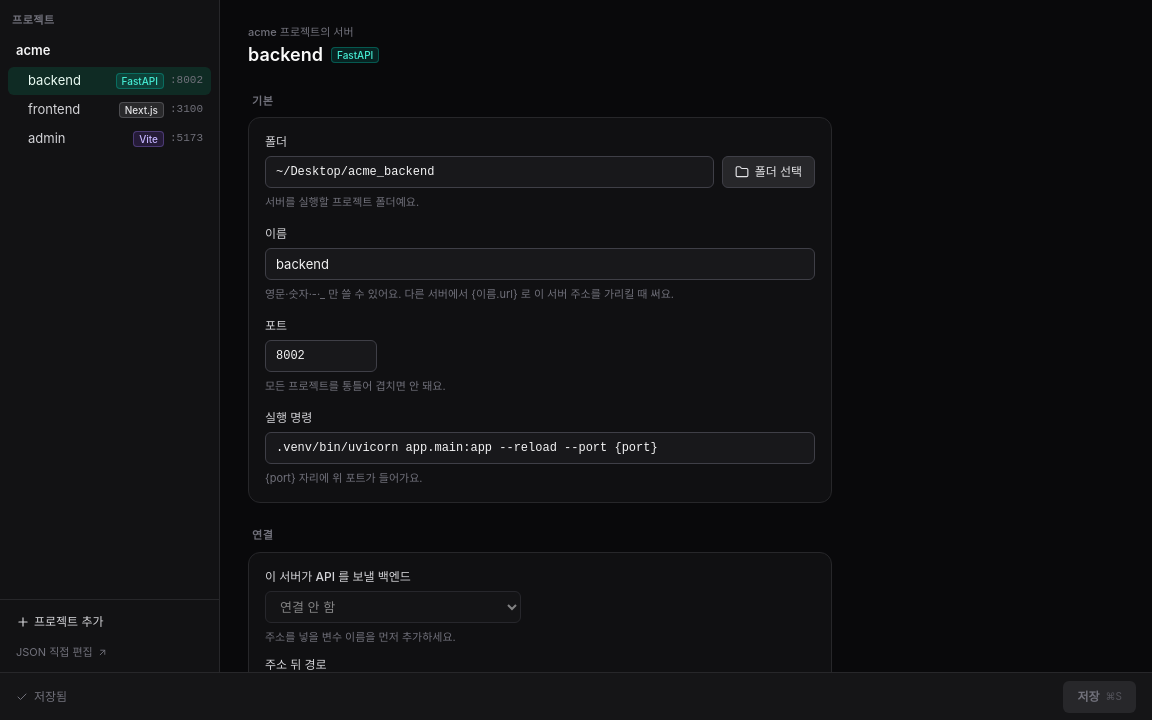
Scenario: SettingsApp — 저장 › 다음 저장에는 앞 저장이 돌려준 revision 을 보낸다
expect the heading "backend" is shown: met, box [248,40,323,68]
Replace the text in the field labelled "포트" with "8010" at (321, 356), box [265,340,377,372]
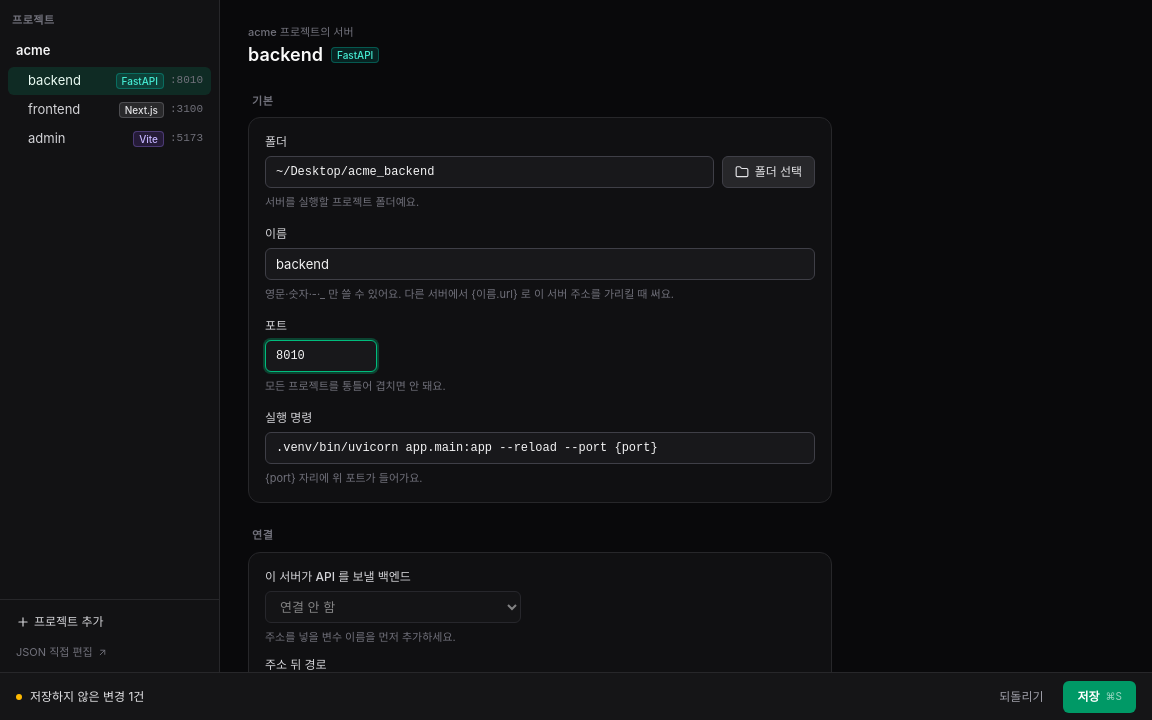
Click the button "저장 ⌘S" at (1100, 696), box [1064,680,1136,712]
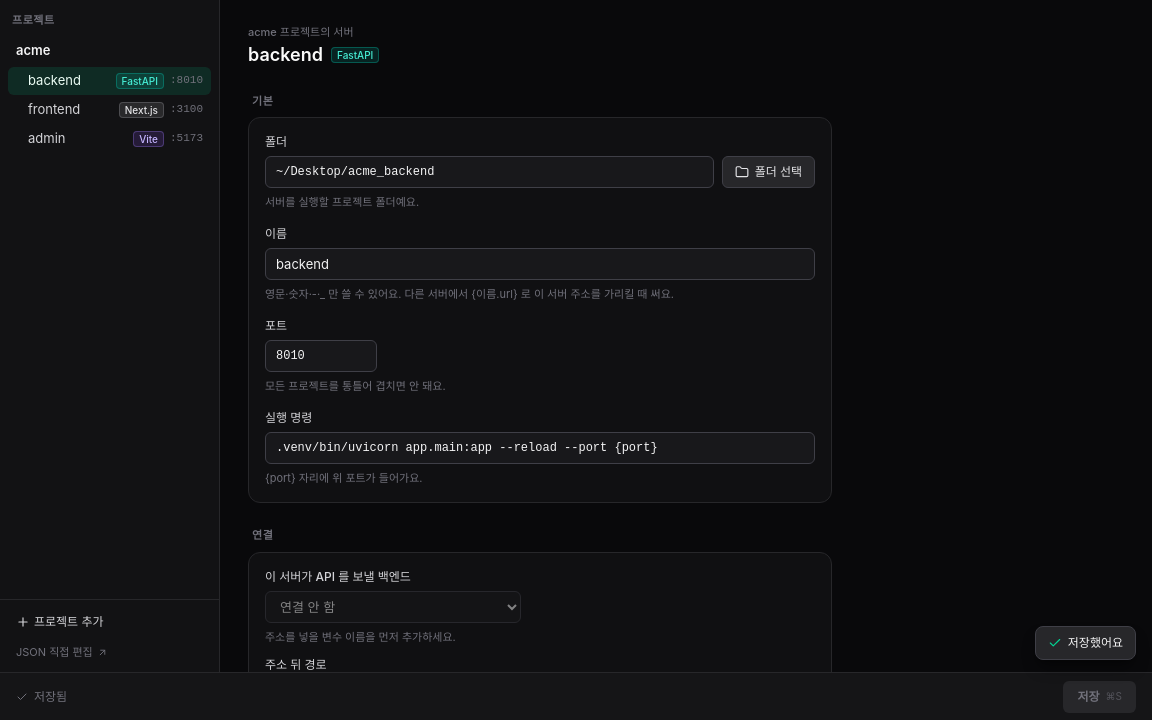
expect the text "저장했어요" is shown: met, box [1035,626,1136,660]
Replace the text in the field labelled "포트" with "8011" at (321, 356), box [265,340,377,372]
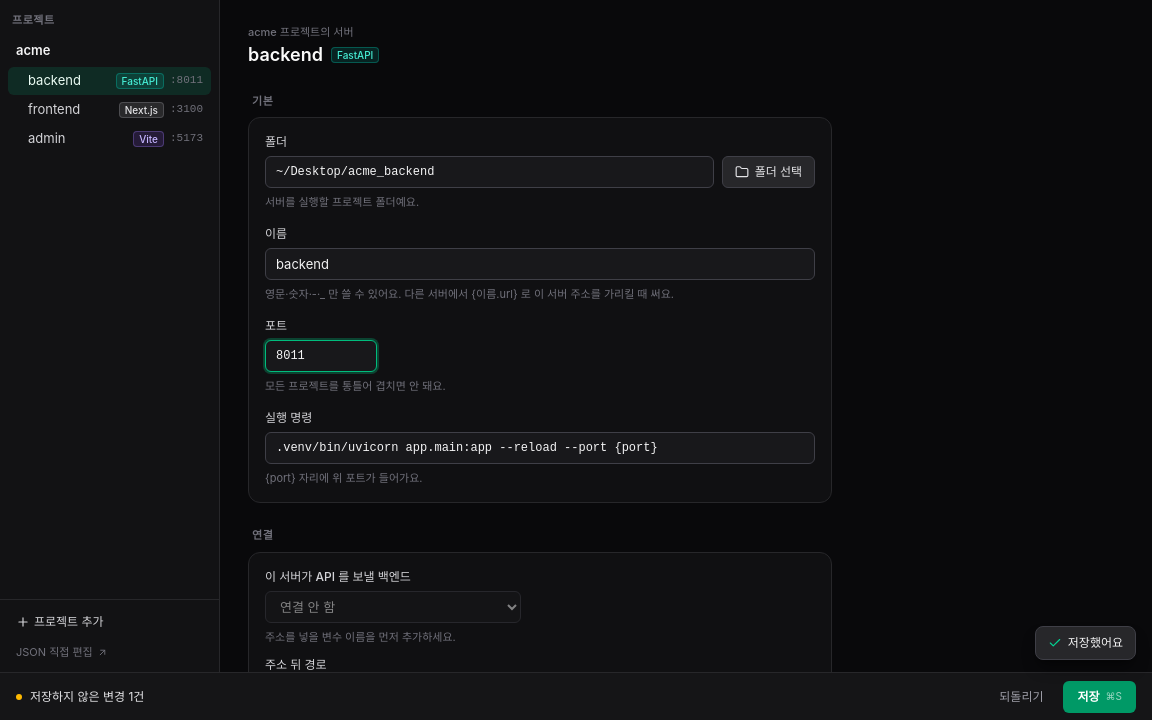
Click the button "저장 ⌘S" at (1100, 696), box [1064,680,1136,712]
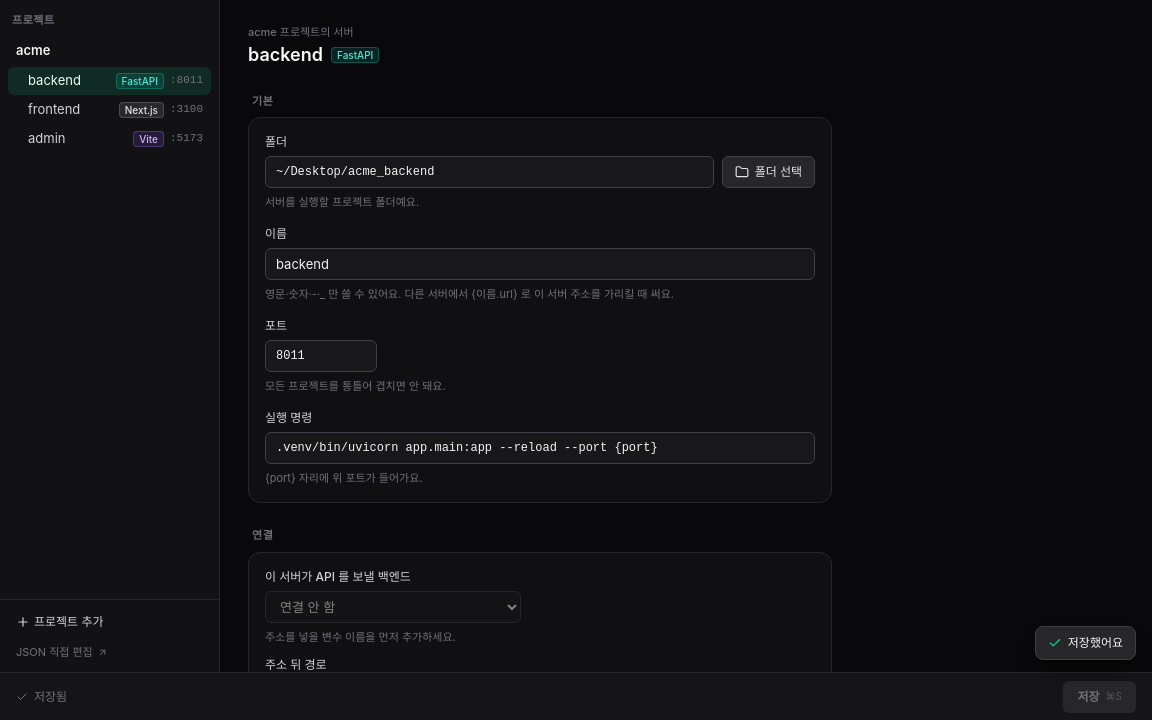
expect the text "저장됨" is shown: met, box [16,688,67,704]
